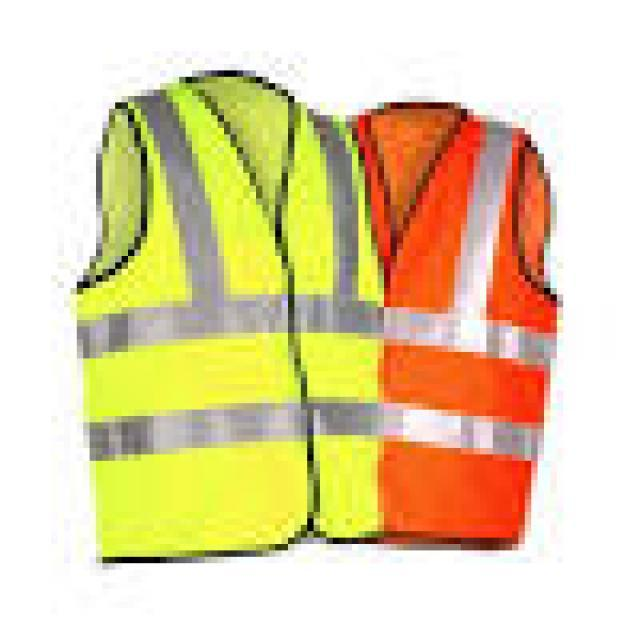reflective_jacket: (61, 58, 387, 568), (336, 90, 564, 564)
